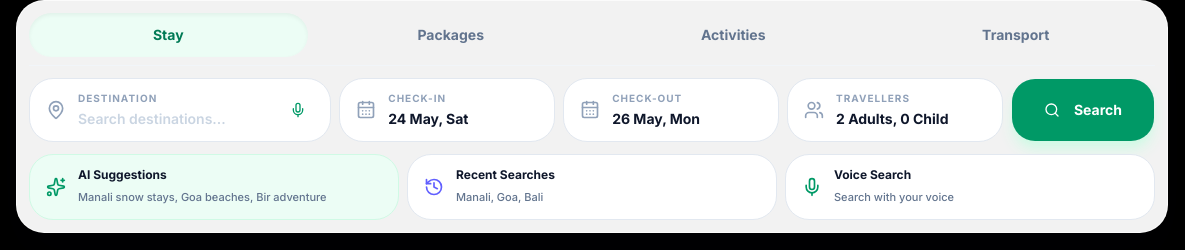
Scenario: EnhancedSearchBar › changes fields when the active travel type changes
expect the text "Check-In" is shown: met, box left=388, top=92, right=446, bottom=104
expect the text "Check-Out" is shown: met, box left=612, top=92, right=682, bottom=104
Click the button "Activities".
click(733, 35)  # box left=594, top=13, right=872, bottom=57
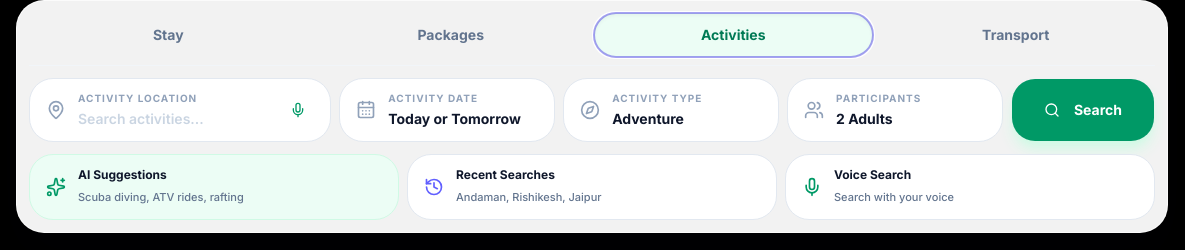
expect the text "Activity Date" is shown: met, box left=388, top=92, right=478, bottom=104
expect the text "Activity Type" is shown: met, box left=612, top=90, right=702, bottom=106
expect the button "Check-In" is gone: met
Click the button "Transport".
click(1016, 35)  # box left=876, top=13, right=1155, bottom=57
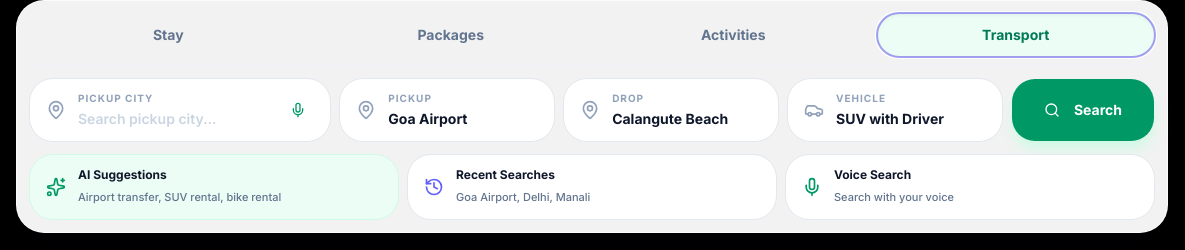
expect the text "Pickup" is shown: met, box left=388, top=92, right=432, bottom=104
expect the text "Drop" is shown: met, box left=612, top=92, right=644, bottom=104
expect the text "Vehicle" is shown: met, box left=836, top=92, right=886, bottom=104
